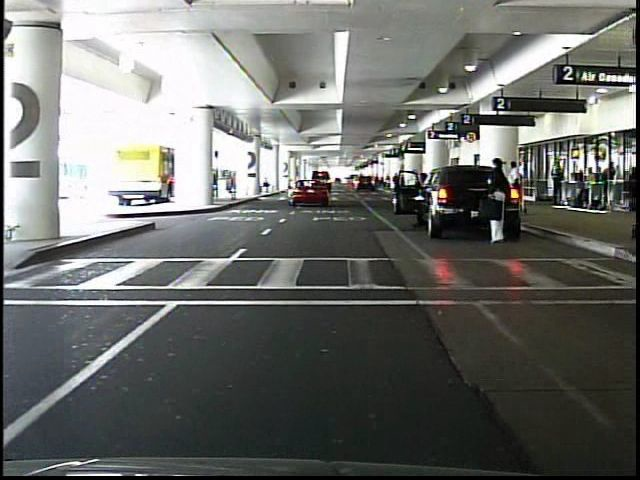person: (484, 160, 513, 248), (504, 160, 525, 215), (550, 161, 563, 205)
